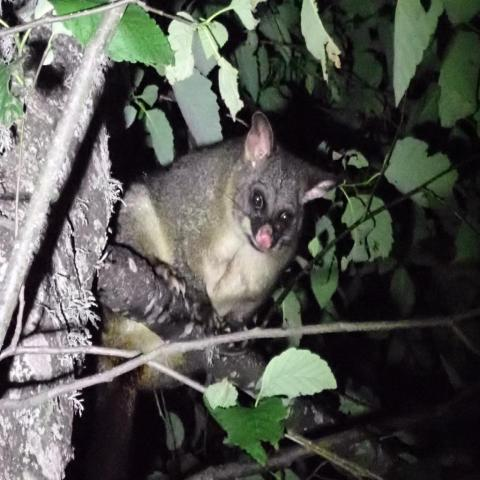small_animal: (77, 109, 343, 412)
